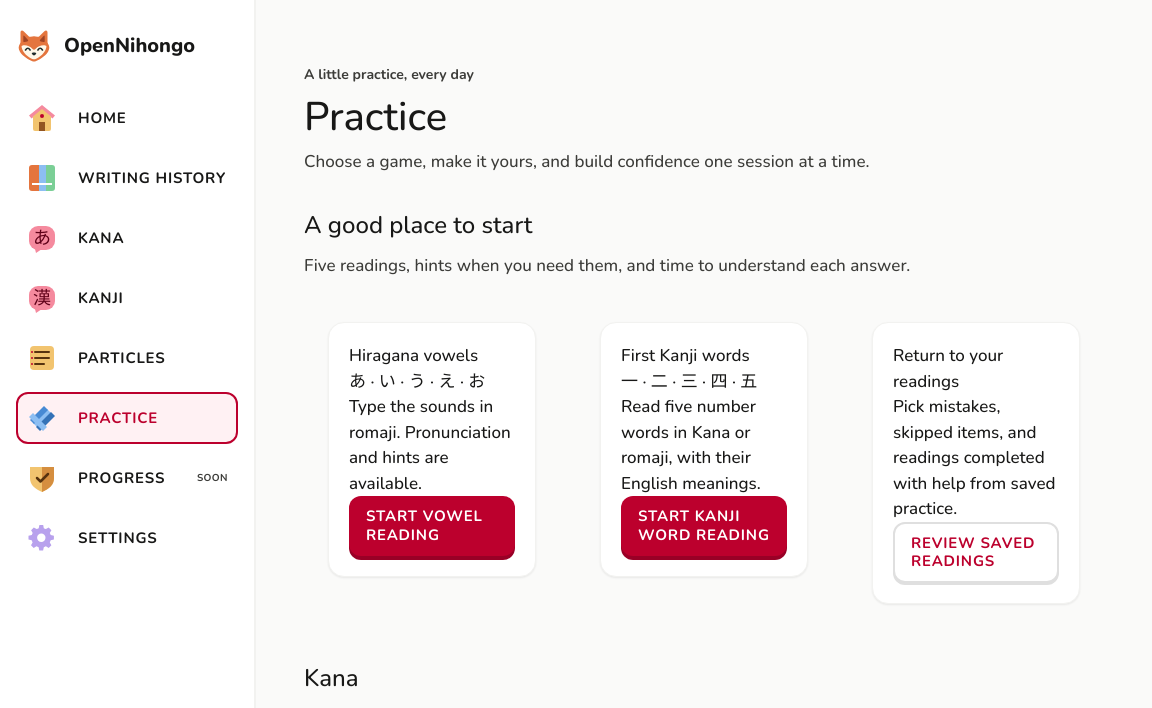
it: starts a five-vowel beginner session directly from Practice
Click the link "Start vowel reading": (432, 526) 349,496 -> 515,556
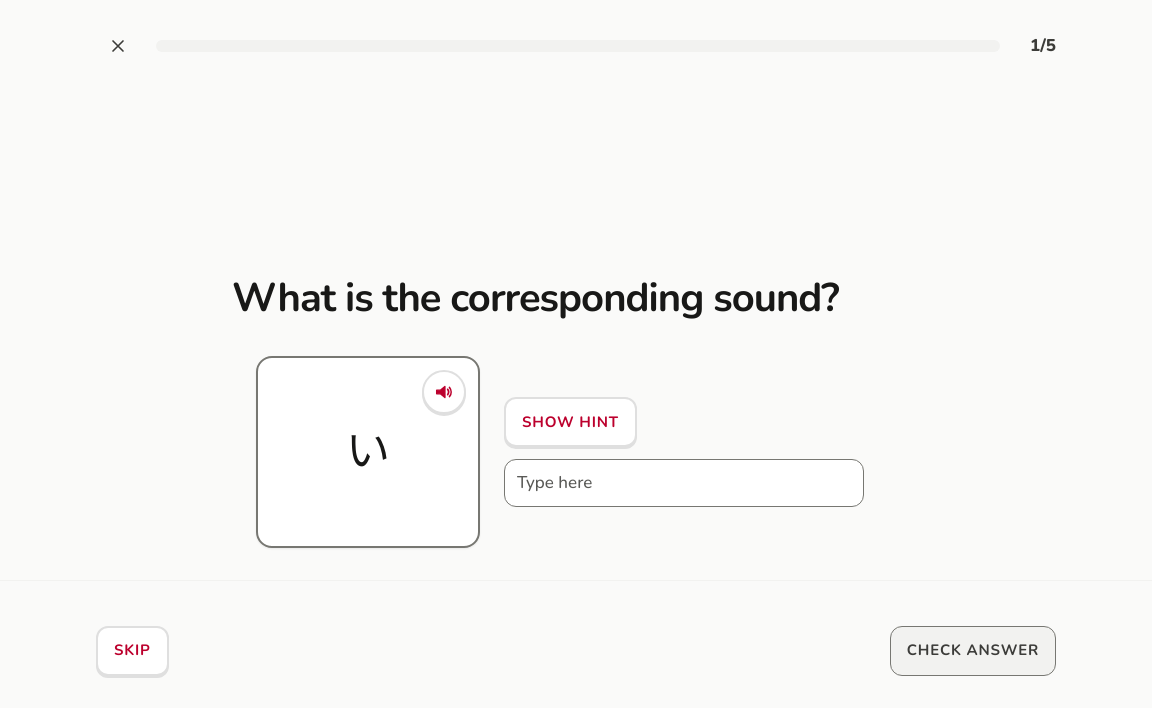
Result: the field is shown at 504,459 -> 864,507
Result: the text "1/5" is shown at 1030,34 -> 1056,57
Result: the button "Show hint" is shown at 504,397 -> 637,447
